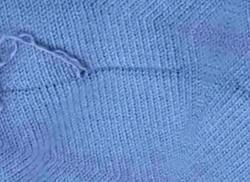snag: (48, 56, 92, 83)
